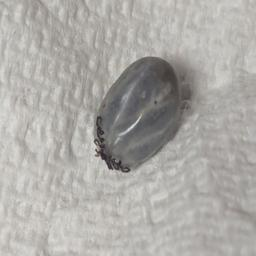Ixodes scapularis: (93, 56, 181, 170)
